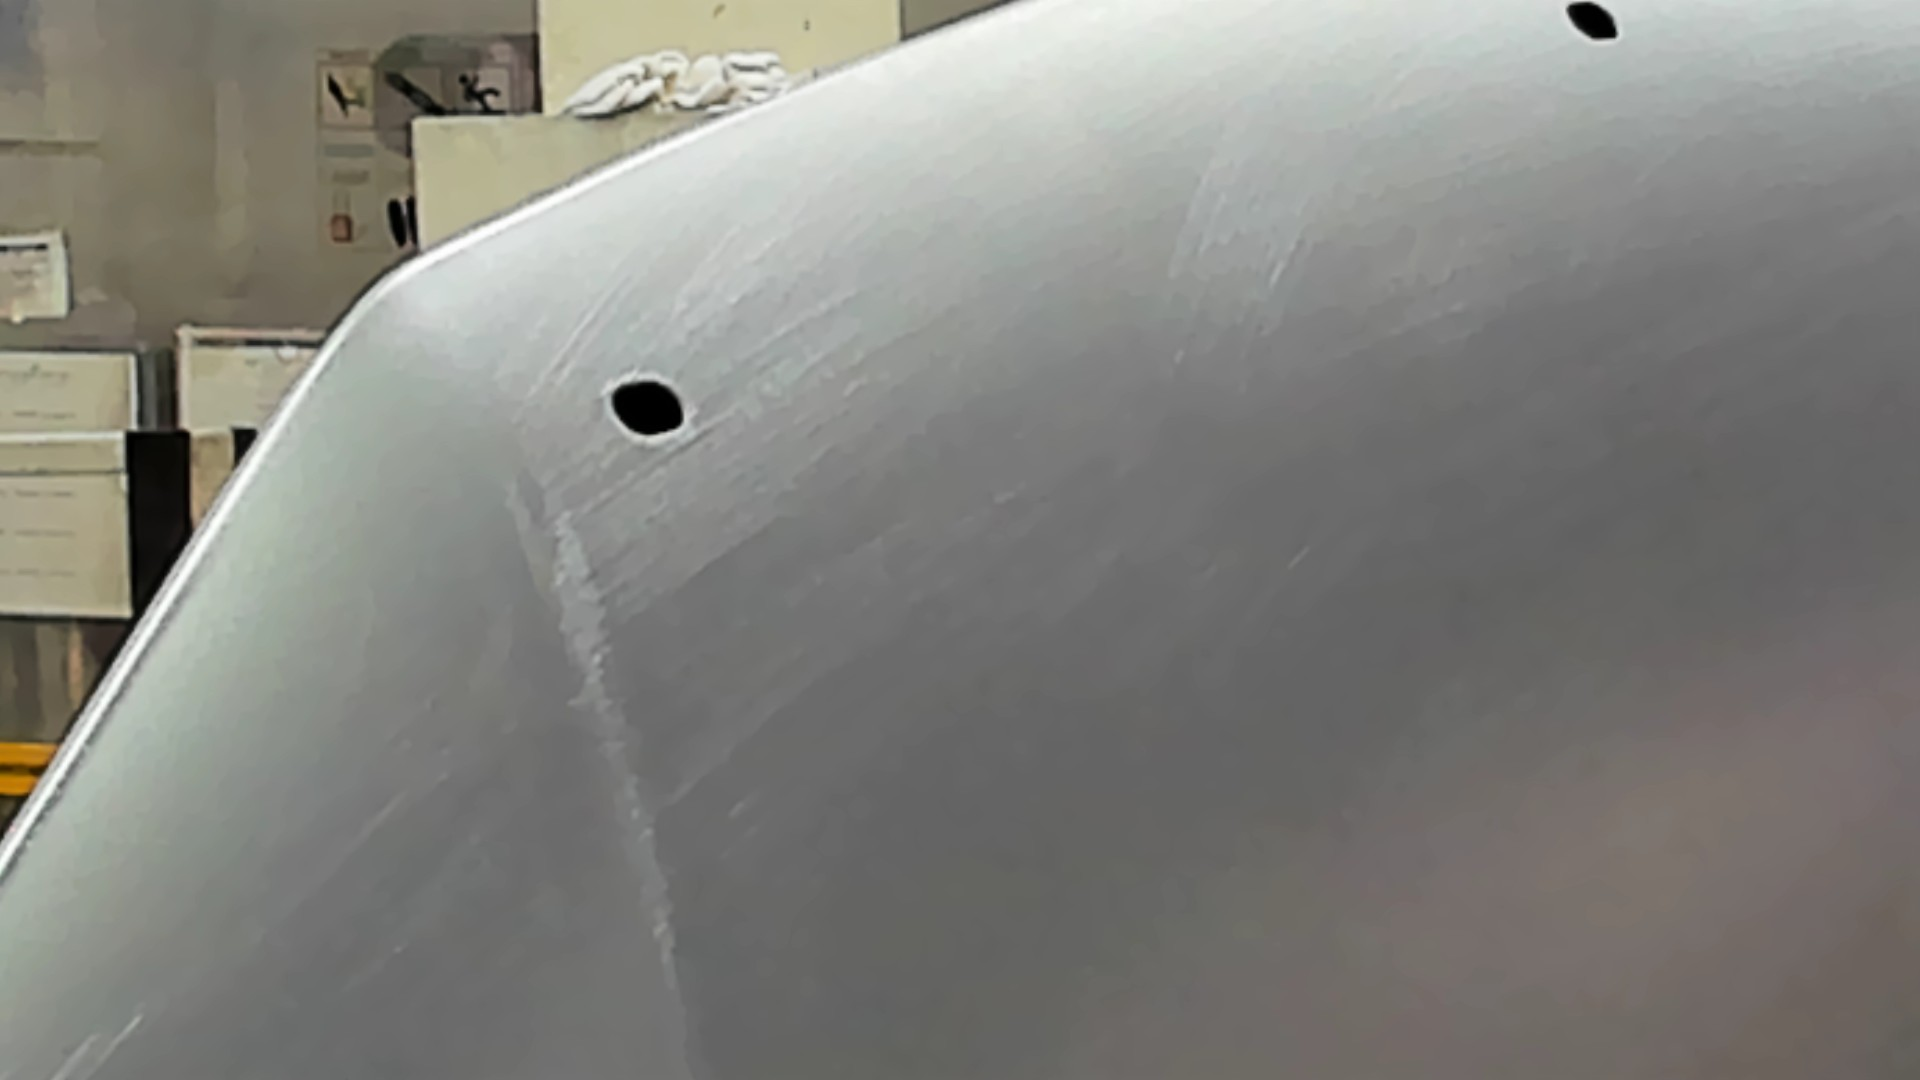amorfo: (597, 365, 698, 446), (1552, 1, 1636, 53)
capo: (829, 103, 1920, 1080)
